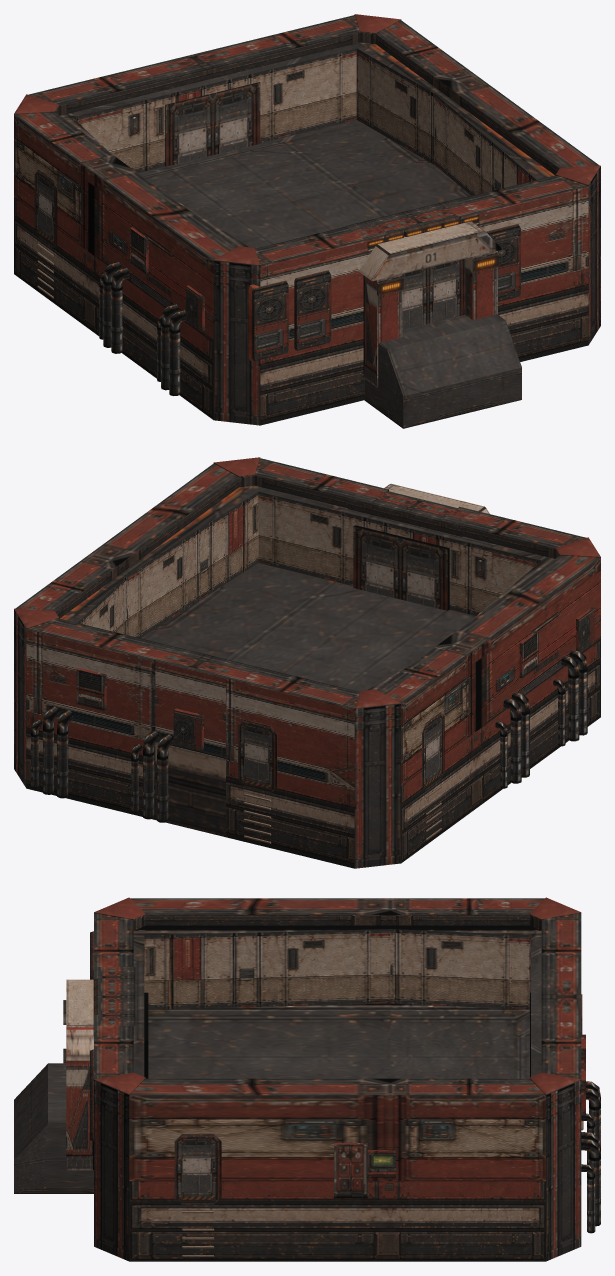
File: bio_field.dae
3 views of the same model, one above another, from view 1: azimuth 30°, elevation 25°; view 2: azimuth 150°, elevation 25°; view 3: azimuth 270°, elevation 25° (orthographic). The views are drawn at different scales.
Visible parts, largest first — view 1: bio_field; view 2: bio_field; view 3: bio_field.
Boxes of the visible parts, left/top/right/bottom form: bio_field: left=14, top=14, right=600, bottom=428; bio_field: left=14, top=457, right=600, bottom=868; bio_field: left=14, top=897, right=600, bottom=1261.
Size of the model in its own units: 40.45 by 48.62 by 15.55.
